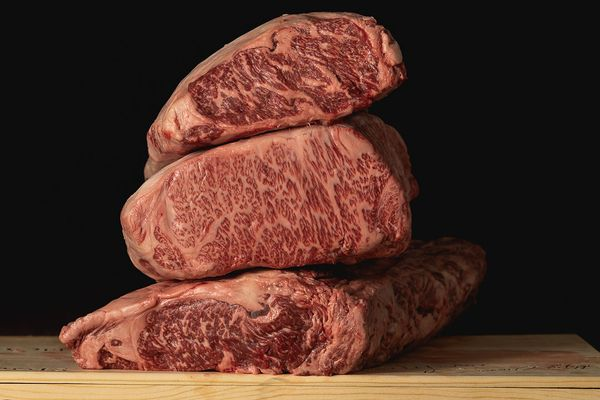curry: (58, 11, 487, 377)
